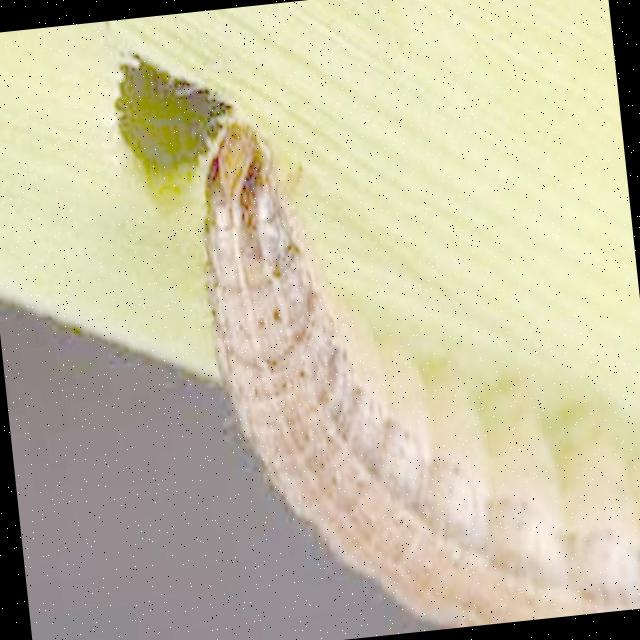worm: (183, 74, 640, 640)
